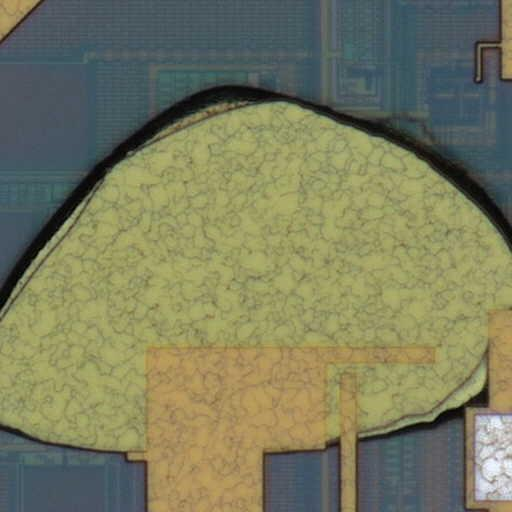BLOCK ETCH: (1, 88, 512, 463)
